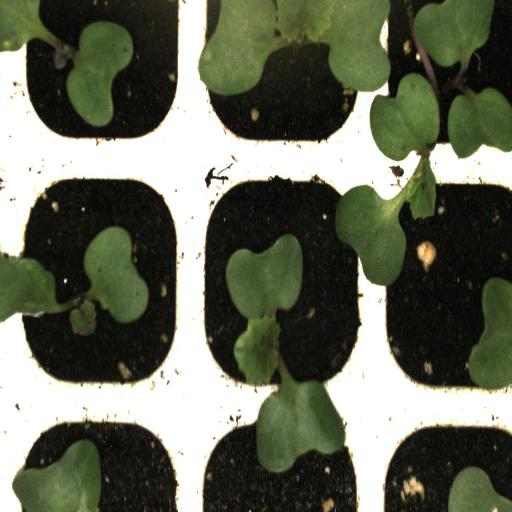Folha: (335, 158, 437, 287), (70, 226, 149, 336), (66, 21, 134, 127), (12, 439, 102, 512), (413, 0, 495, 67), (468, 277, 512, 390), (0, 253, 65, 322), (448, 466, 512, 512), (0, 0, 52, 52)
Germinacao: (192, 164, 374, 406), (10, 164, 190, 404), (189, 2, 370, 163), (9, 4, 188, 161), (370, 0, 512, 178)
